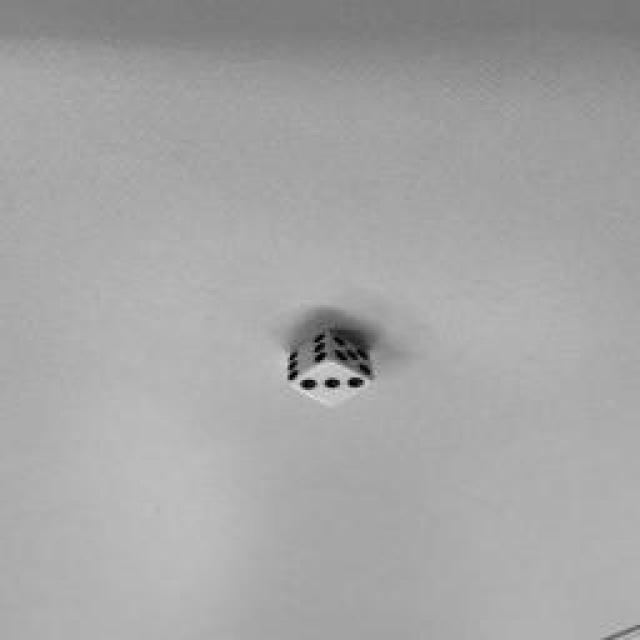dice_3: (290, 360, 375, 408)
